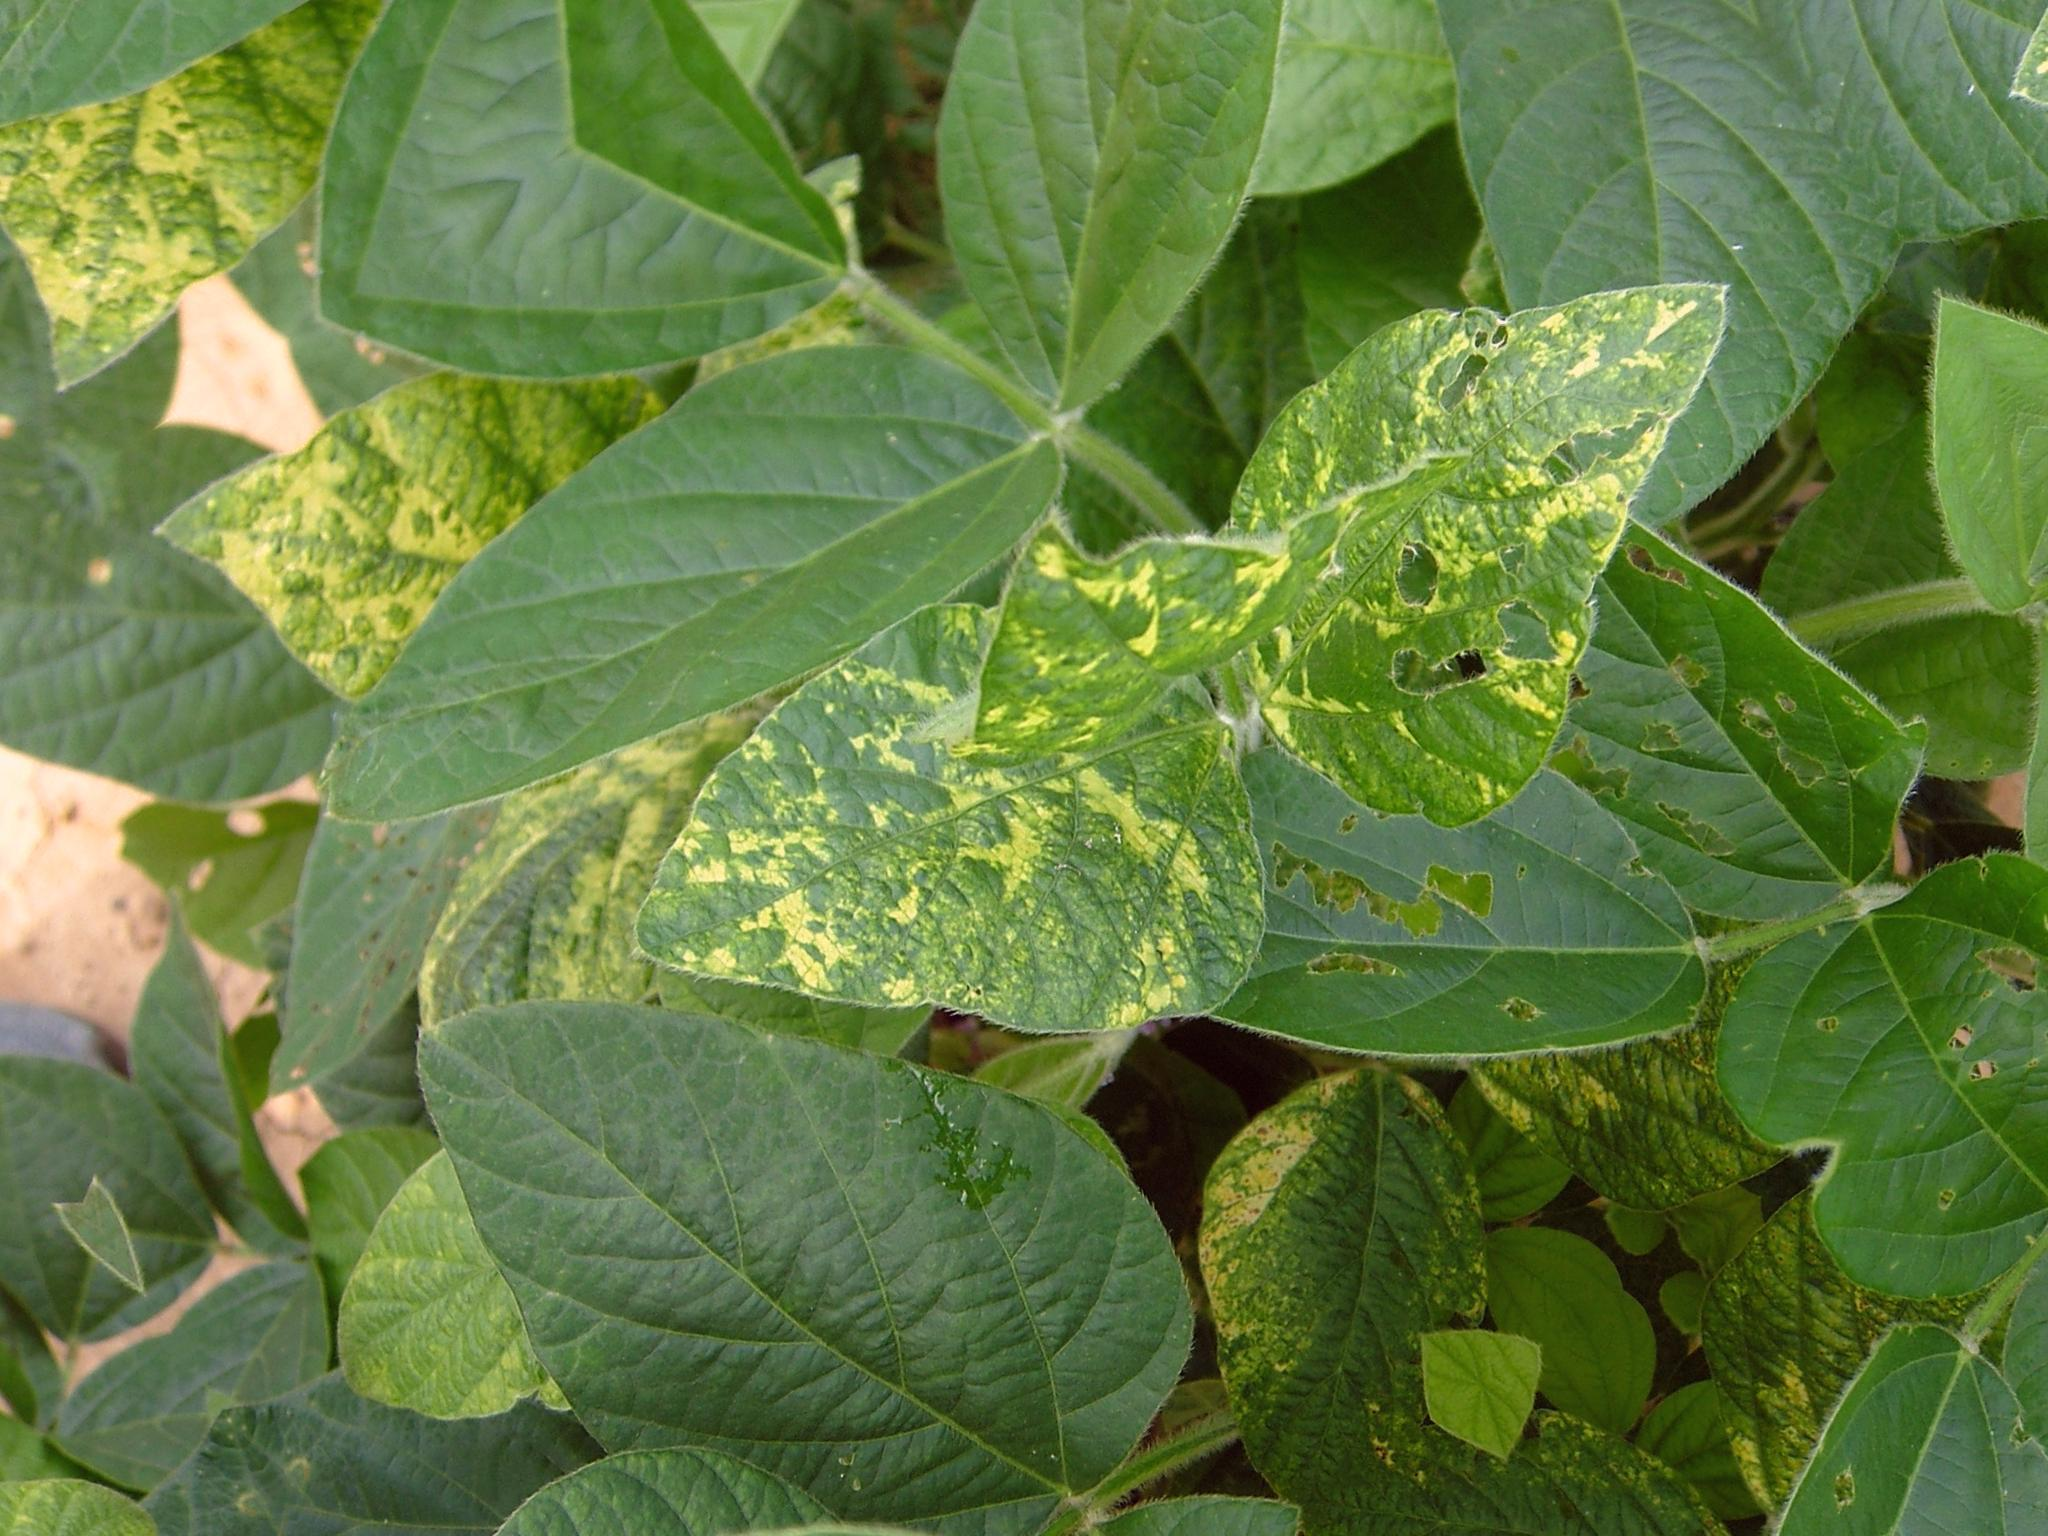Tomato leaf mosaic virus: (1105, 134, 1903, 895), (264, 227, 1095, 937), (608, 524, 1338, 1225)
